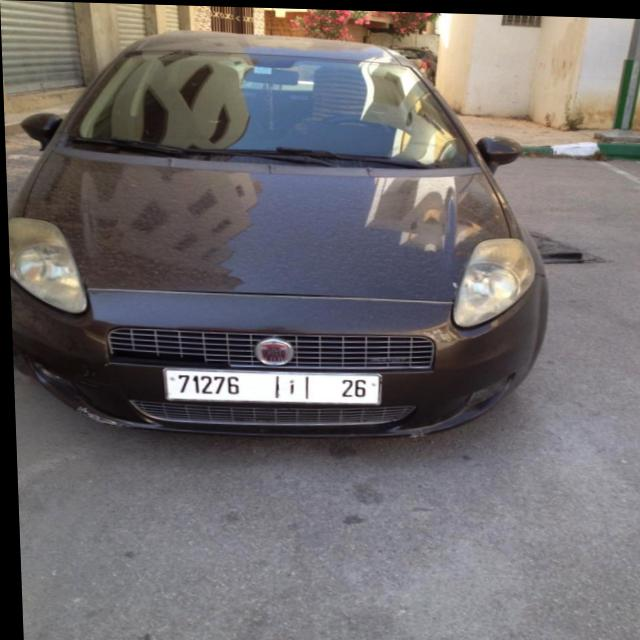License-Plate: (161, 367, 378, 403)
